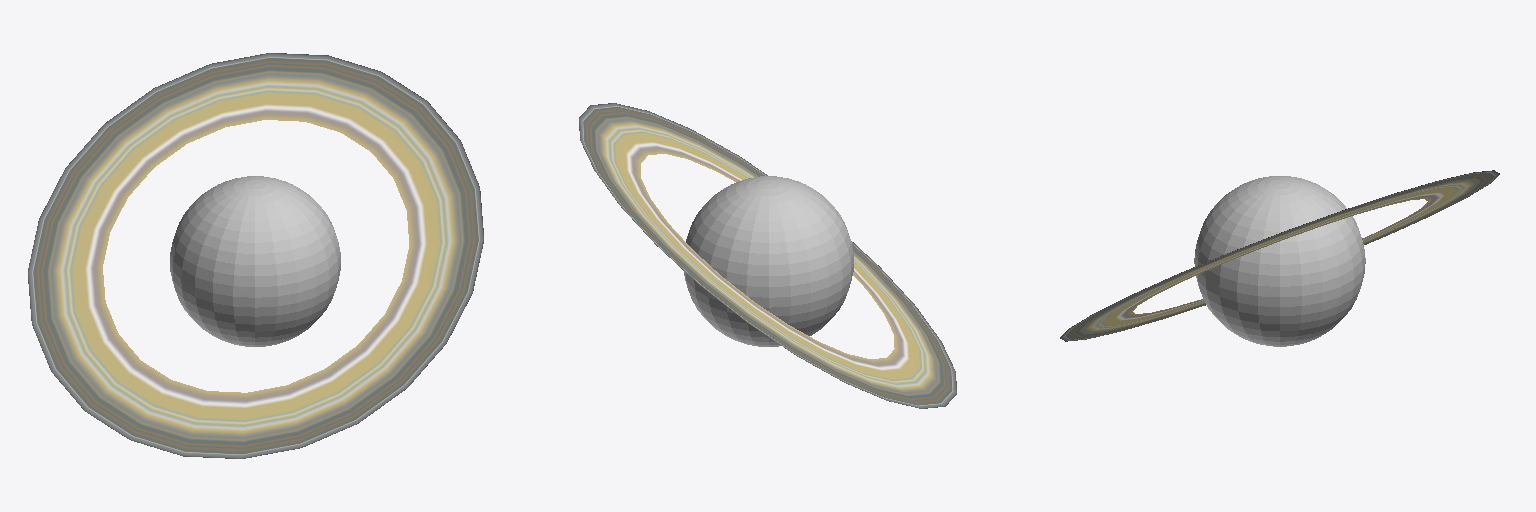
3 renders of one model, left to right at view 1: azimuth 30°, elevation 25°; view 2: azimuth 150°, elevation 25°; view 3: azimuth 270°, elevation 25°, orthographic.
Visible parts, largest first — view 1: anneau, Saturne.001_Saturne; view 2: anneau, Saturne.001_Saturne; view 3: Saturne.001_Saturne, anneau.
Part boxes in pixels (bbox=[...]): anneau: bbox=[28, 53, 483, 458]; Saturne.001_Saturne: bbox=[170, 176, 340, 346]; anneau: bbox=[579, 103, 956, 408]; Saturne.001_Saturne: bbox=[683, 176, 853, 346]; Saturne.001_Saturne: bbox=[1194, 176, 1365, 346]; anneau: bbox=[1060, 170, 1499, 341].
Size of the model in its own units: 6.85 by 4.62 by 7.29.
2 materials, 1 textured.